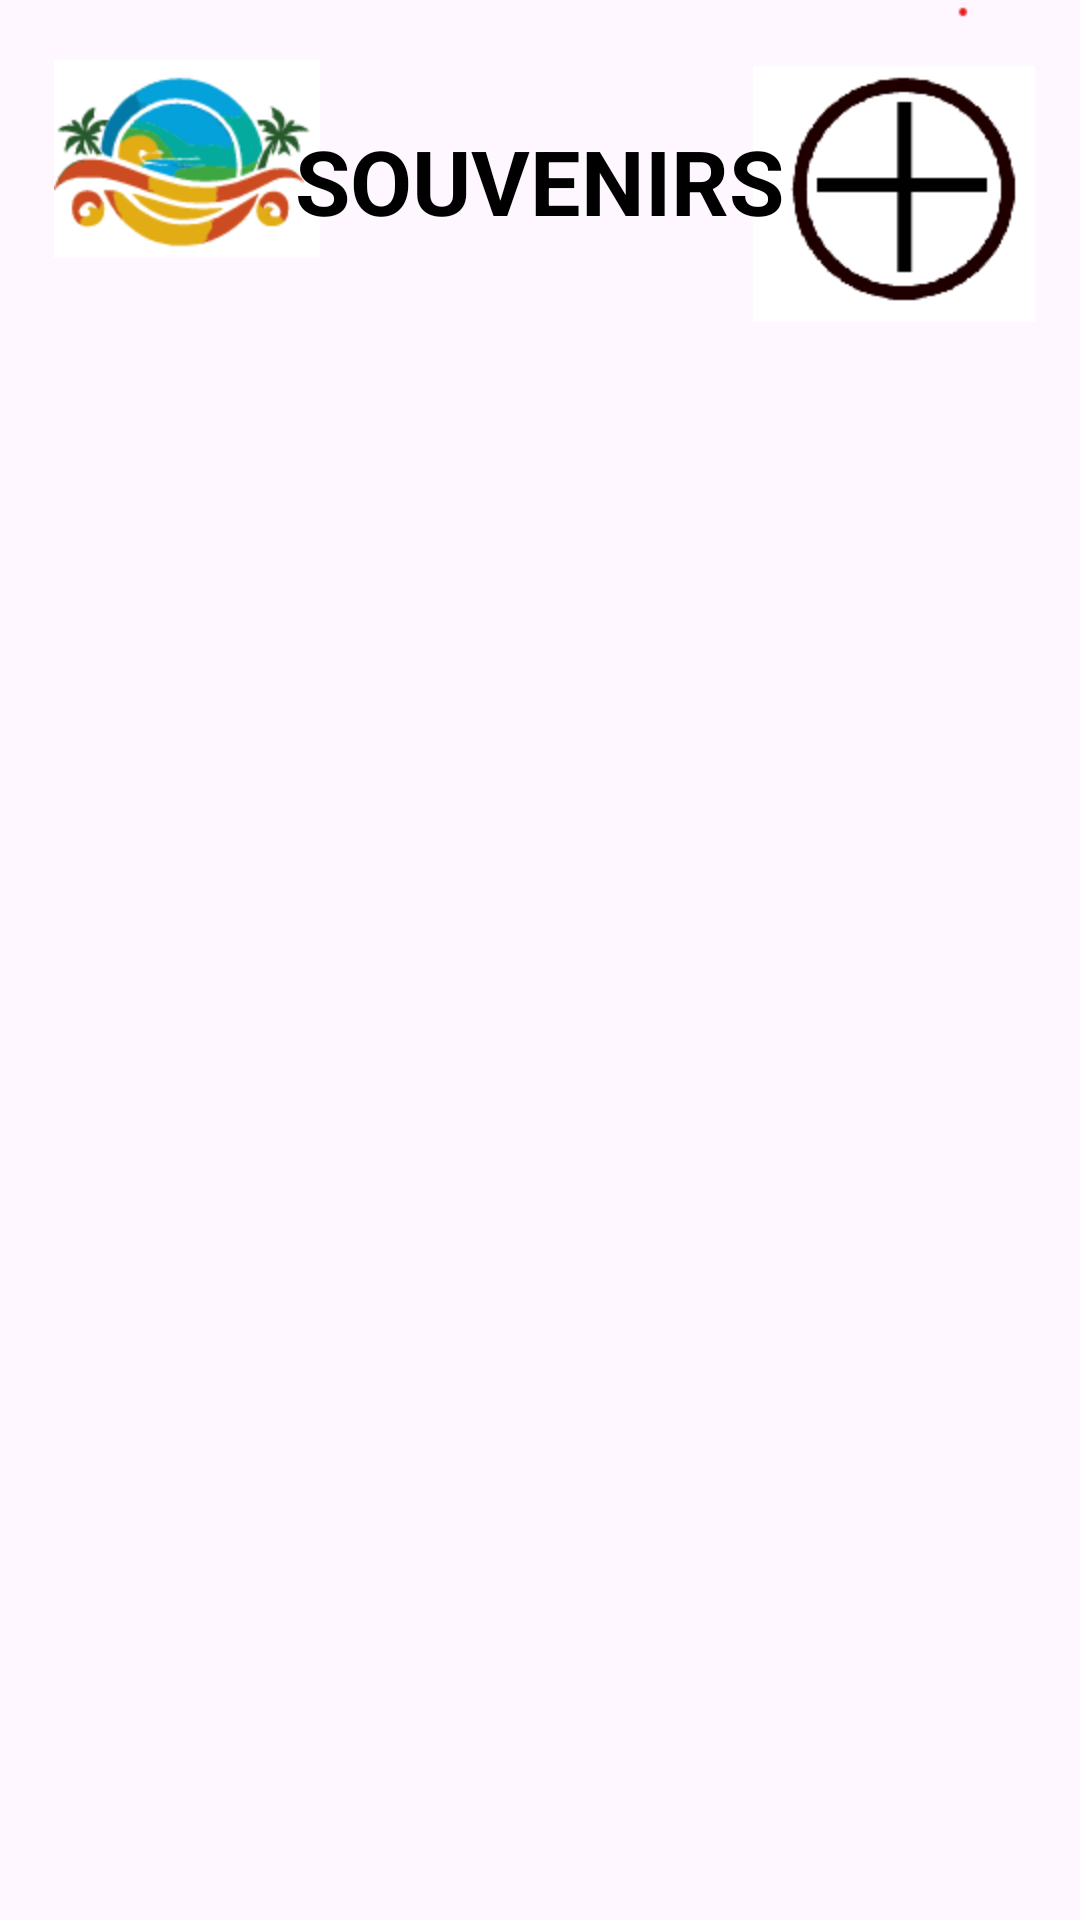

Where icons sit on this 1080px x 1920px app screen, as (x1, y1, x2, y2):
ajout: (791, 7, 1016, 301)
